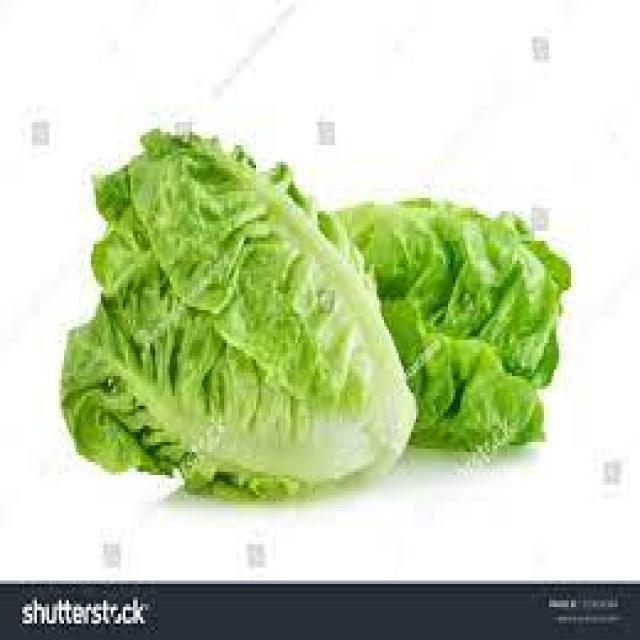Lettuce-Ready-to-Harvest: (62, 132, 415, 495), (338, 200, 570, 452)
